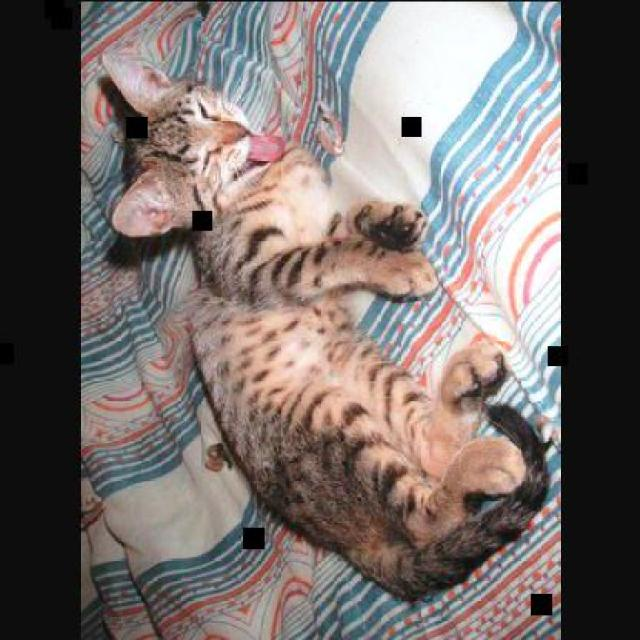unauthorized: (100, 40, 551, 603)
